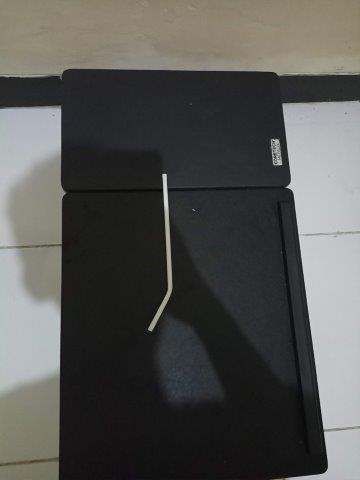sedotan: (148, 174, 173, 331)
